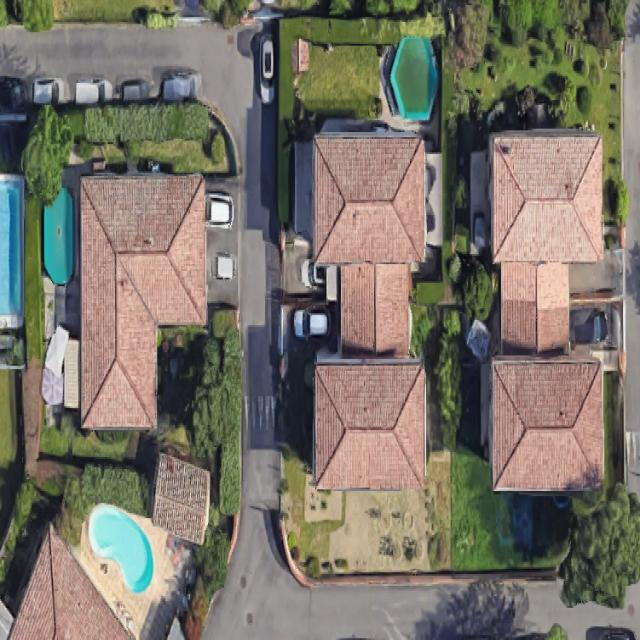maison: (80, 174, 206, 425), (487, 254, 605, 488), (310, 263, 427, 488), (311, 131, 426, 263), (489, 128, 602, 261)
